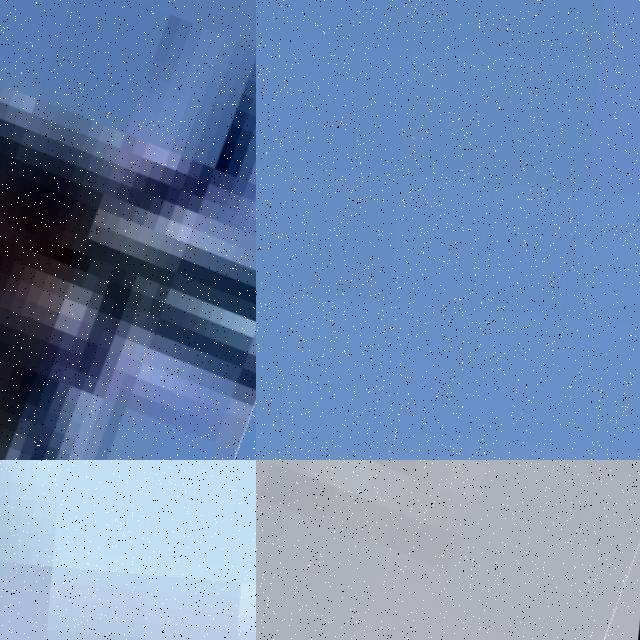drone: (0, 0, 256, 460), (256, 460, 640, 640)
